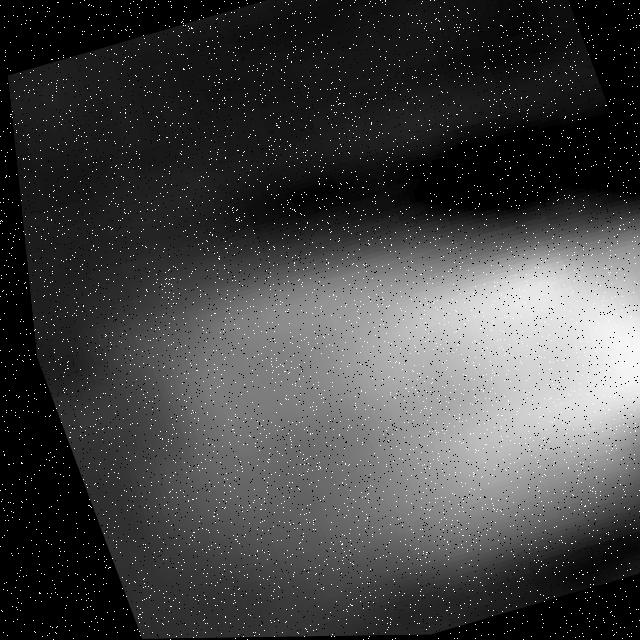person: (65, 179, 640, 640)
